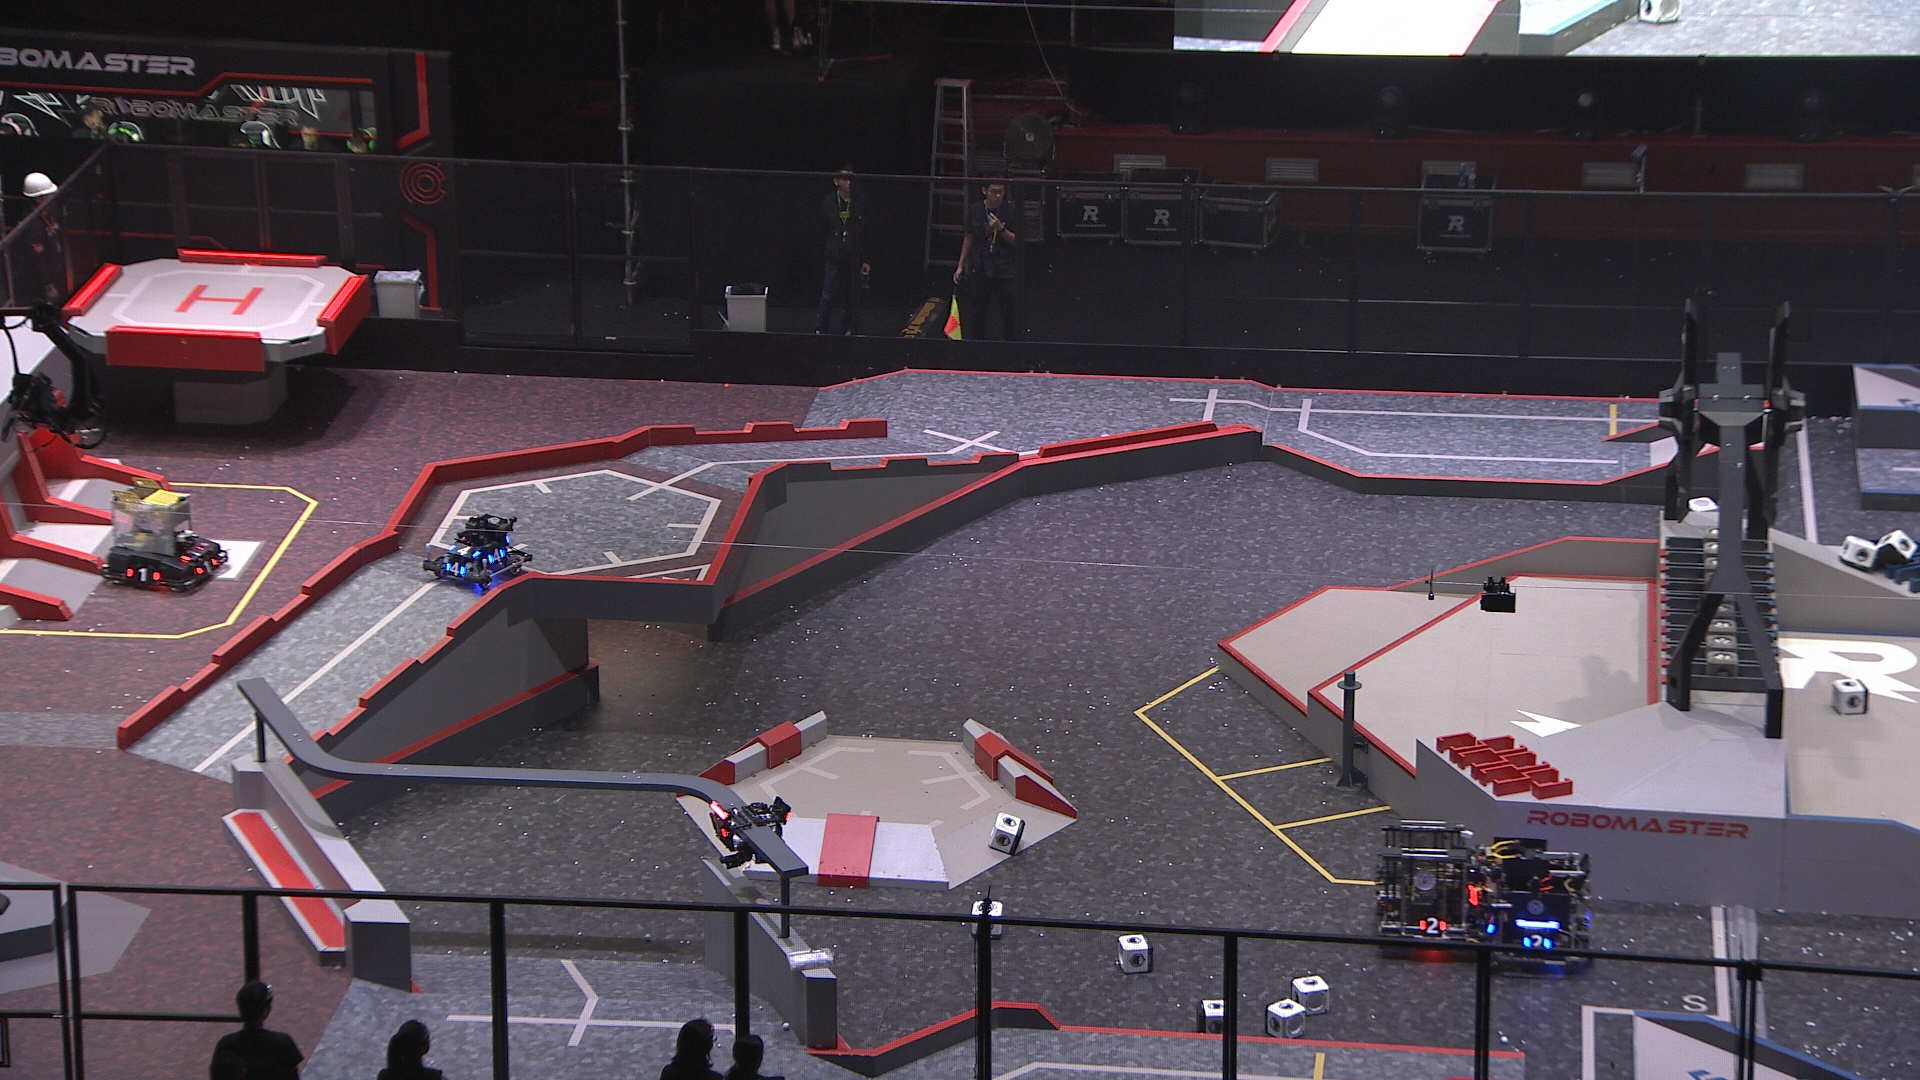armor: (124, 564, 161, 584), (190, 555, 220, 579), (1415, 916, 1448, 938), (178, 541, 207, 564), (709, 811, 731, 843), (1522, 932, 1552, 953), (447, 542, 484, 559), (440, 556, 467, 579), (487, 546, 508, 566)
car: (1476, 836, 1596, 977), (96, 480, 233, 597), (1370, 816, 1477, 949), (419, 510, 538, 591)
watcher: (705, 793, 793, 872)
